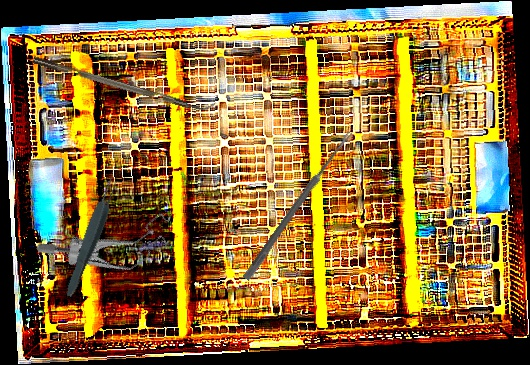Chopper: (32, 47, 216, 118)
Speculum: (34, 173, 185, 310)
Surgical Spoon: (242, 129, 354, 282)
Tissue Forceps: (61, 173, 123, 300)
